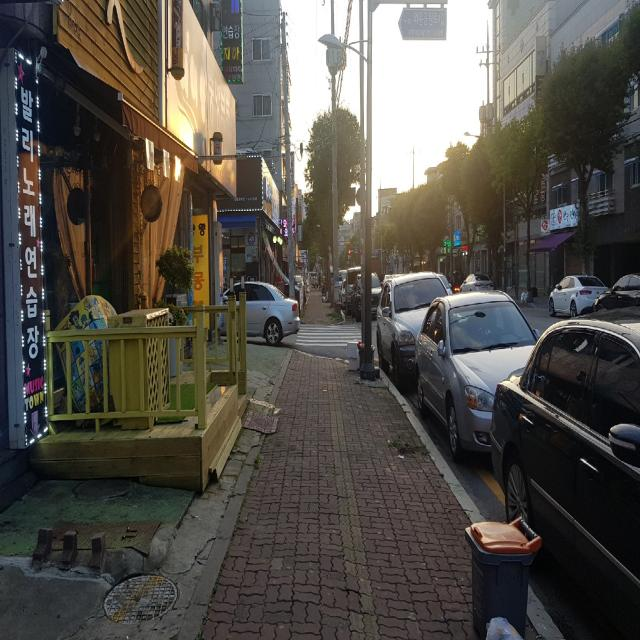횡단보도: (296, 326, 362, 346)
